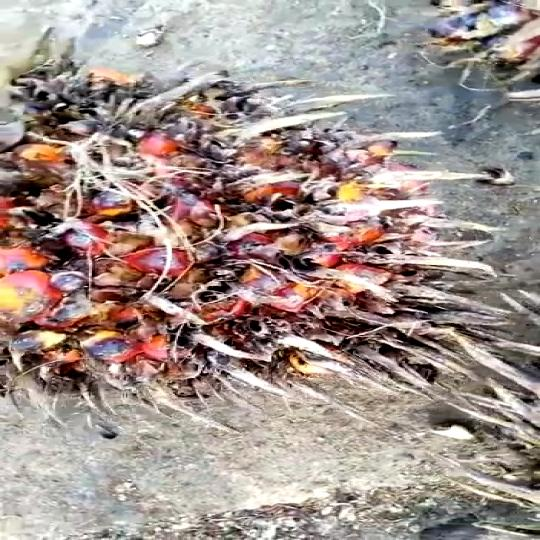terlalu masak: (0, 39, 488, 418)
